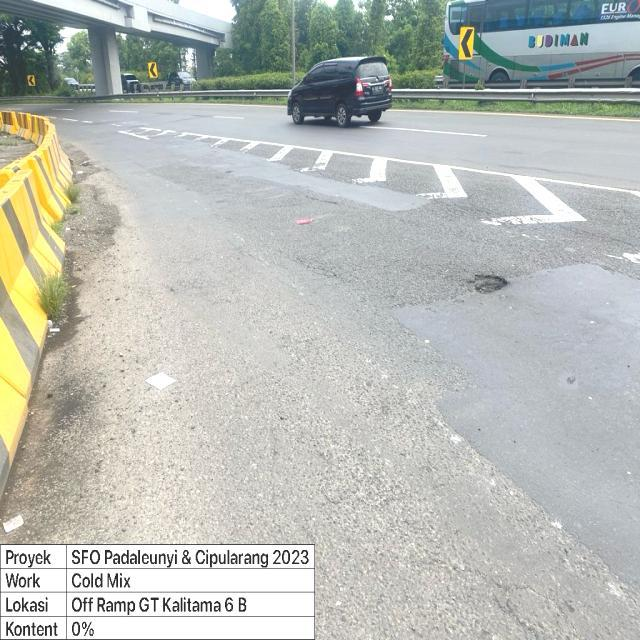Buraco: (457, 271, 512, 297)
